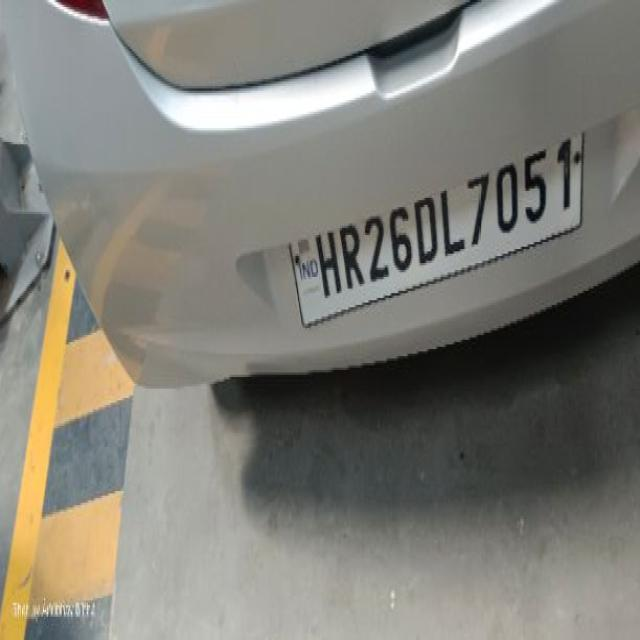license_plate: (2, 0, 639, 389), (286, 126, 584, 328)
